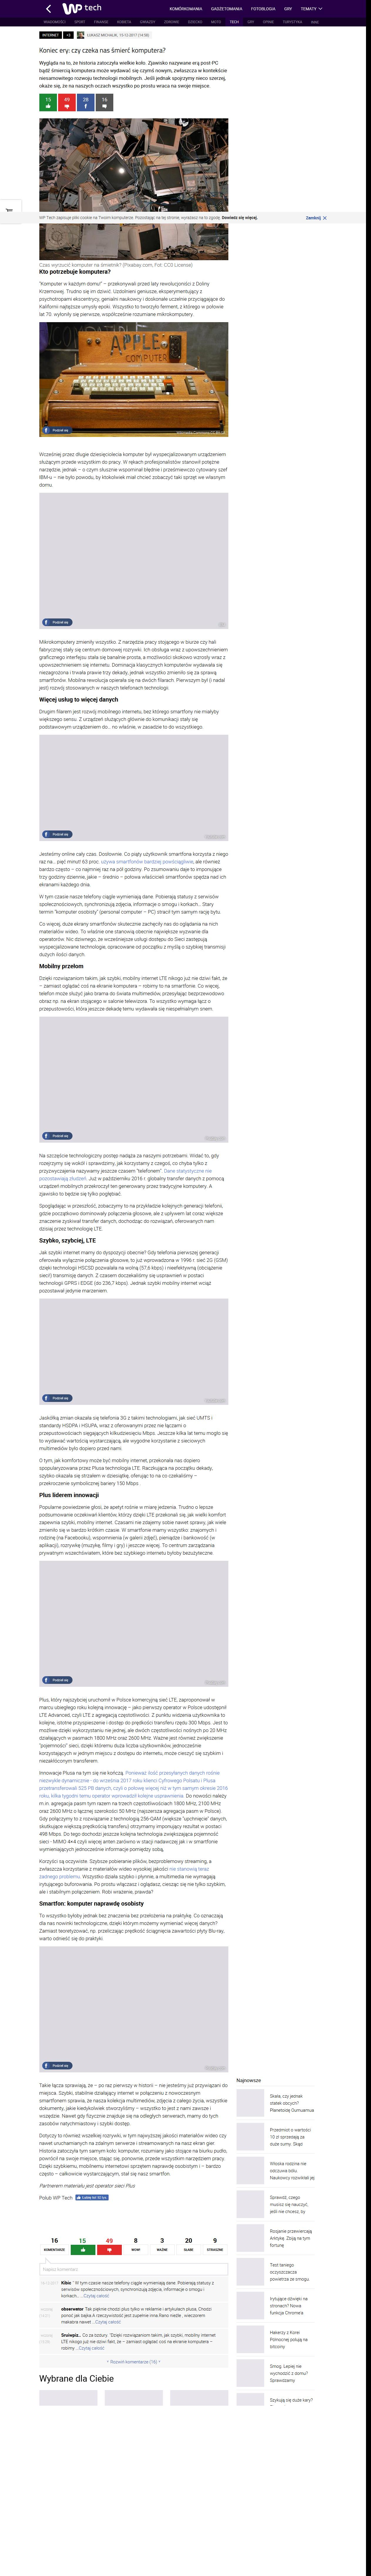title: (39, 48, 167, 54)
